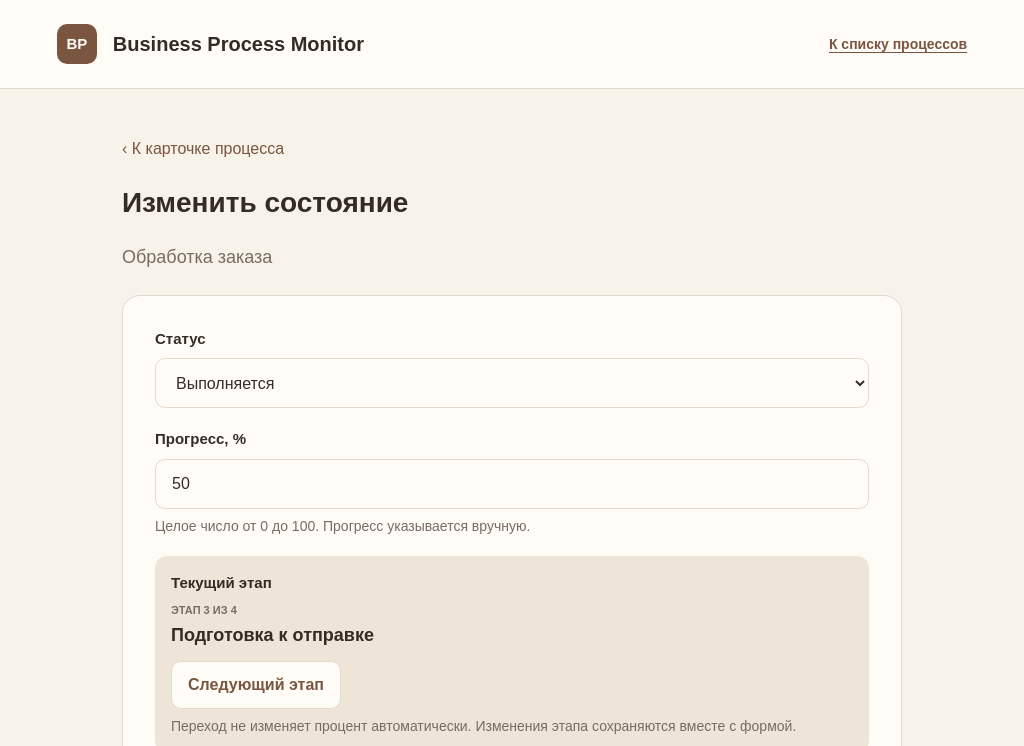
Scenario: R1 / FE-016: валидация перед сохранением › V07: «Завершён» со 100% отклоняется до последнего этапа
The width and height of the screenshot is (1024, 746).
Select "Завершён" in the dropdown labelled "Статус" at (512, 383), box [155,358,869,408]
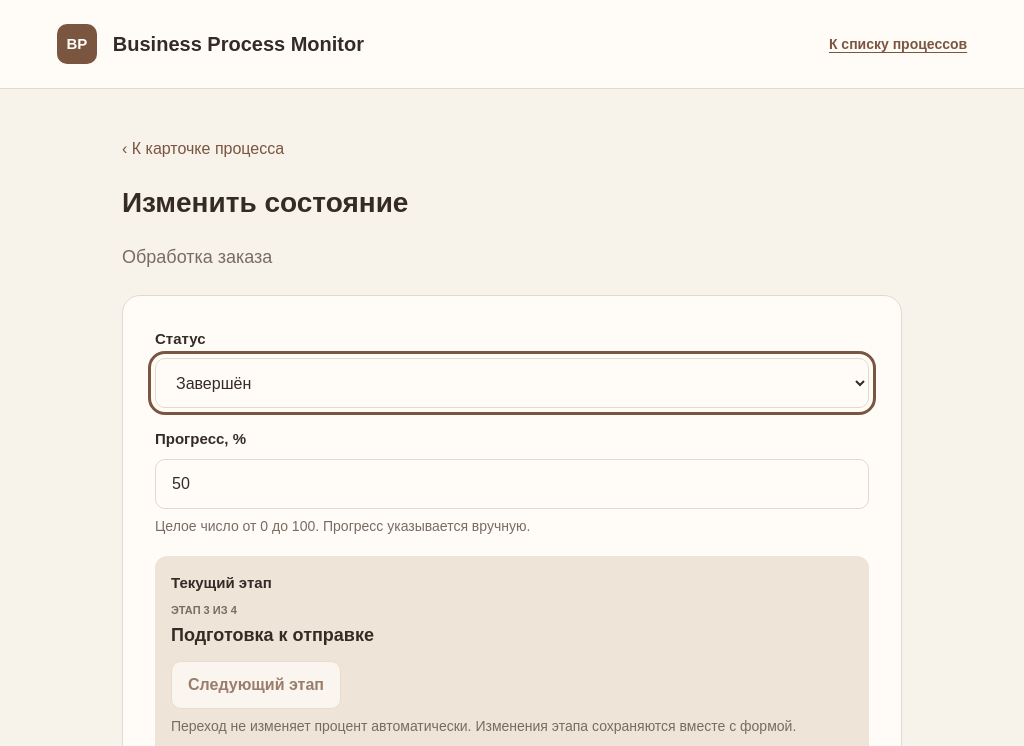
Replace the text in the field labelled "Прогресс, %" with "100" at (512, 484), box [155,459,869,509]
(page scrolled)
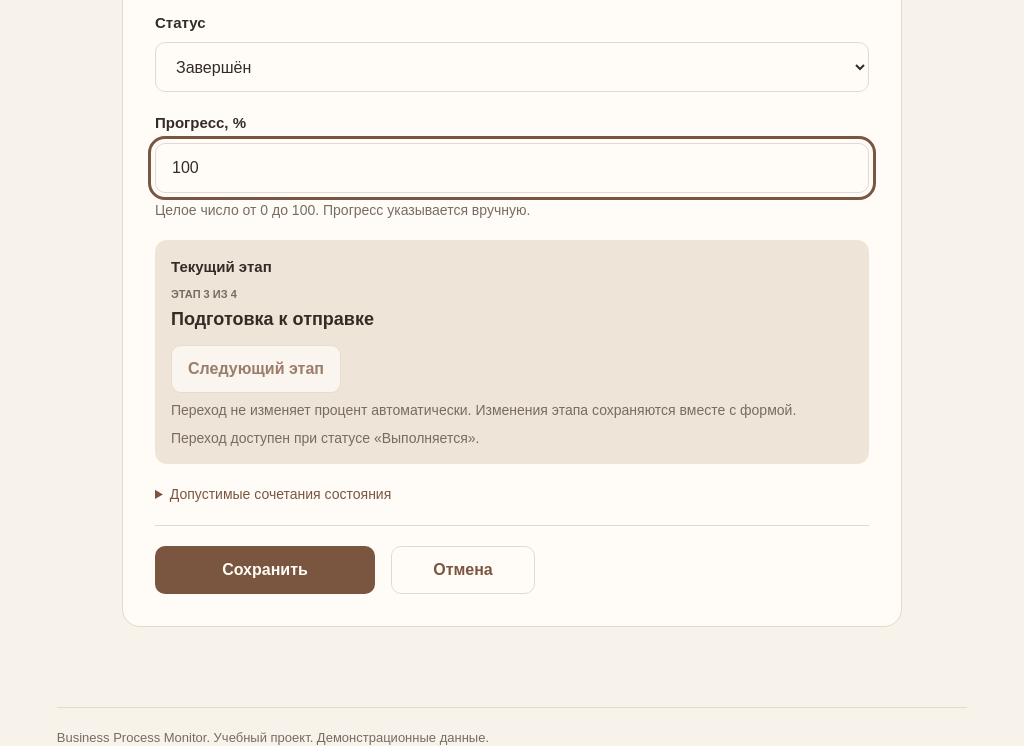
Click the button "Сохранить" at (265, 570), box [155,546,375,594]
(page scrolled)
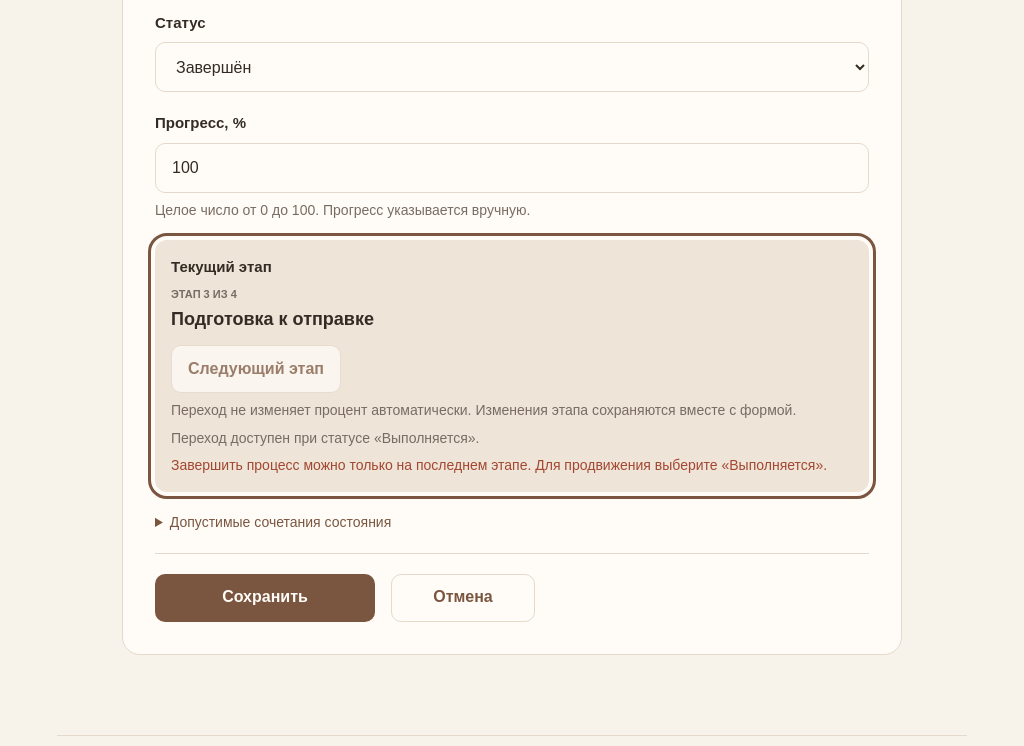
Expected: the text "Завершить процесс можно только на последнем этапе. Для продвижения выберите «Выполняется»." is shown, [171,457,827,473]
